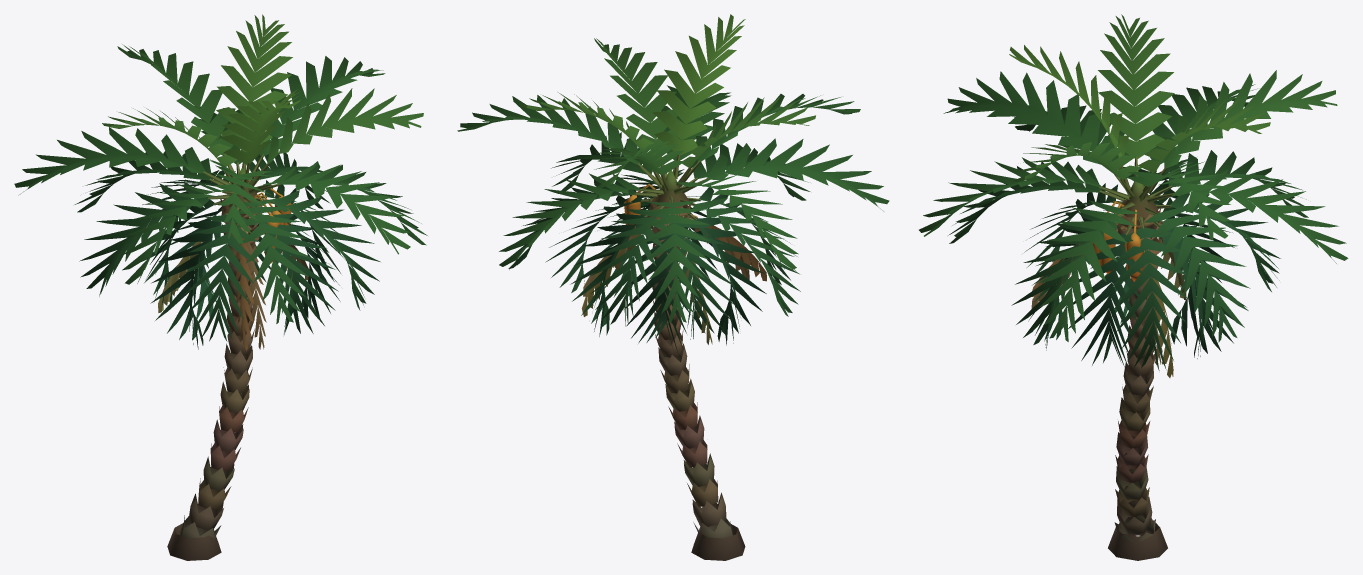
The model's file is palm_a.glb.
3 renders of one model, left to right at view 1: azimuth 30°, elevation 25°; view 2: azimuth 150°, elevation 25°; view 3: azimuth 270°, elevation 25°, orthographic. The views are drawn at different scales.
Visible parts, largest first — view 1: palm_a; view 2: palm_a; view 3: palm_a.
Boxes of the visible parts, <box> form: palm_a: <box>14,14,427,560</box>; palm_a: <box>457,14,889,560</box>; palm_a: <box>919,14,1348,560</box>.
Size of the model in its own units: 8.86 by 11.56 by 8.69.
